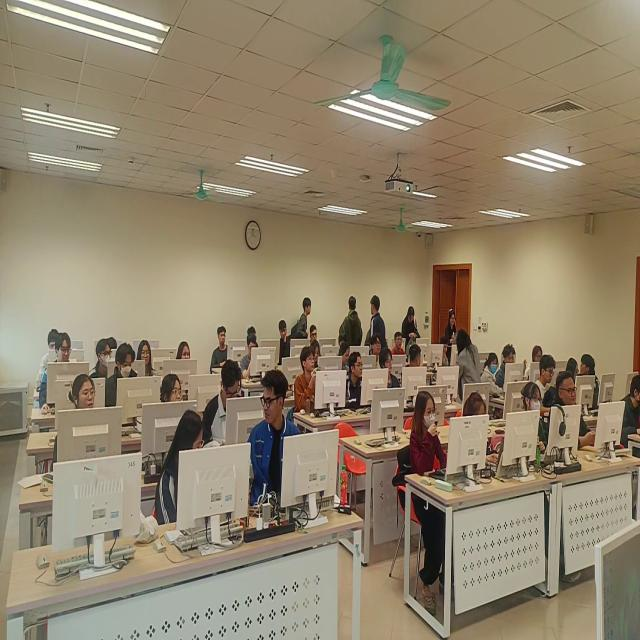raise_hand: (497, 343, 529, 387)
raise_head: (52, 375, 96, 475), (411, 391, 447, 480), (554, 372, 594, 450), (521, 380, 548, 457), (295, 346, 319, 414), (345, 353, 365, 408), (482, 352, 503, 400), (210, 326, 230, 376), (379, 348, 402, 390), (162, 374, 184, 406), (370, 332, 383, 360), (392, 332, 405, 355), (177, 342, 192, 361)
stand: (457, 329, 482, 403), (339, 295, 364, 348), (365, 296, 388, 346), (292, 298, 313, 340), (402, 307, 421, 346), (446, 307, 458, 349)
using_computer: (156, 410, 206, 527), (202, 359, 243, 447), (39, 333, 73, 417), (107, 342, 139, 409), (619, 375, 640, 452), (37, 329, 60, 392), (89, 340, 113, 382), (241, 335, 259, 380), (138, 340, 159, 377), (278, 321, 293, 366), (528, 342, 544, 384), (463, 392, 488, 418), (566, 358, 580, 385), (339, 343, 351, 373), (310, 340, 322, 369), (248, 326, 259, 346), (310, 324, 319, 342), (109, 337, 118, 349)
